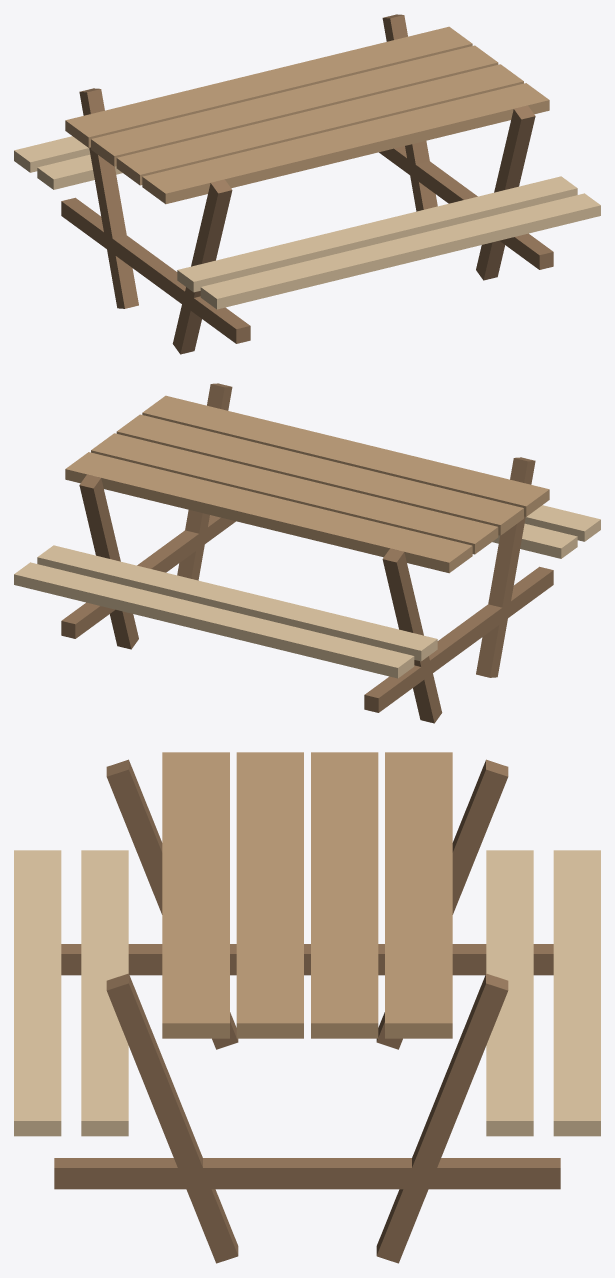
The model's file is picnic_table.glb.
The picture shows the model from 3 angles, top to bottom: view 1: azimuth 30°, elevation 25°; view 2: azimuth 150°, elevation 25°; view 3: azimuth 270°, elevation 25°; orthographic projection. The views are drawn at different scales.
Parts seen in each view (by area): view 1: picnic_table; view 2: picnic_table; view 3: picnic_table.
Boxes of the visible parts, x1,y1,x2,y2 form: picnic_table: (14, 14, 600, 354); picnic_table: (14, 383, 600, 723); picnic_table: (14, 752, 600, 1263).
Bounding box in the file's own units: 1.9 × 0.9166 × 1.74.
